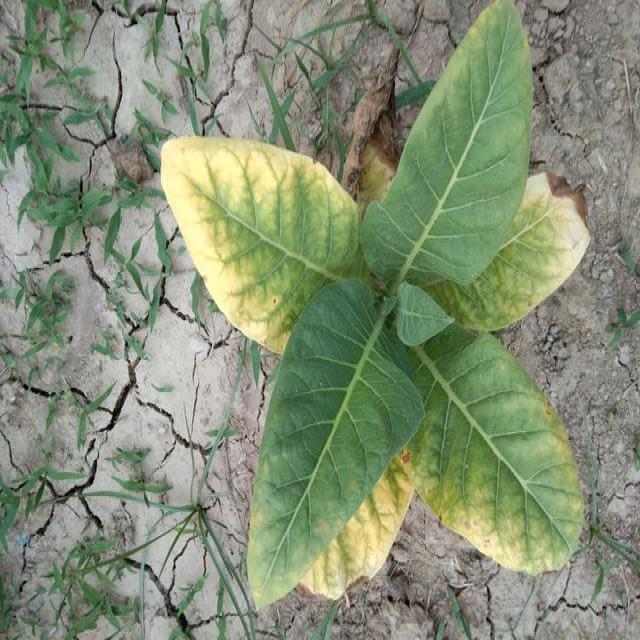crop: (150, 0, 599, 617)
